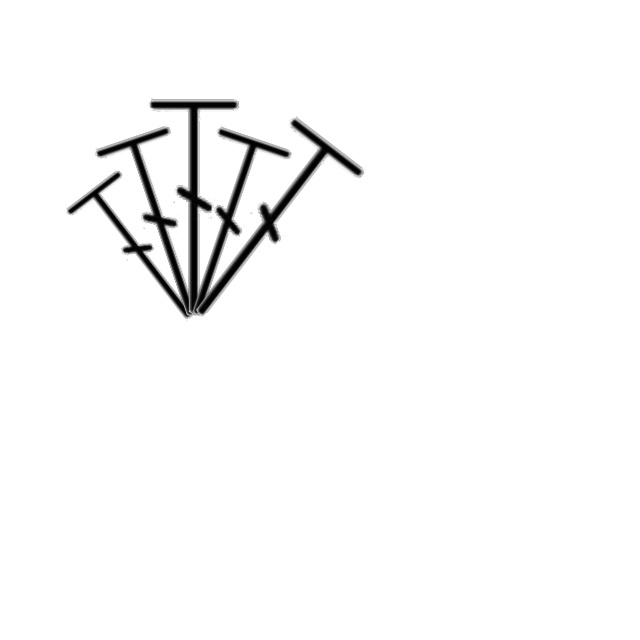chain: (156, 108, 375, 352), (90, 117, 235, 336), (155, 119, 299, 336), (61, 163, 224, 344), (146, 91, 244, 322)
